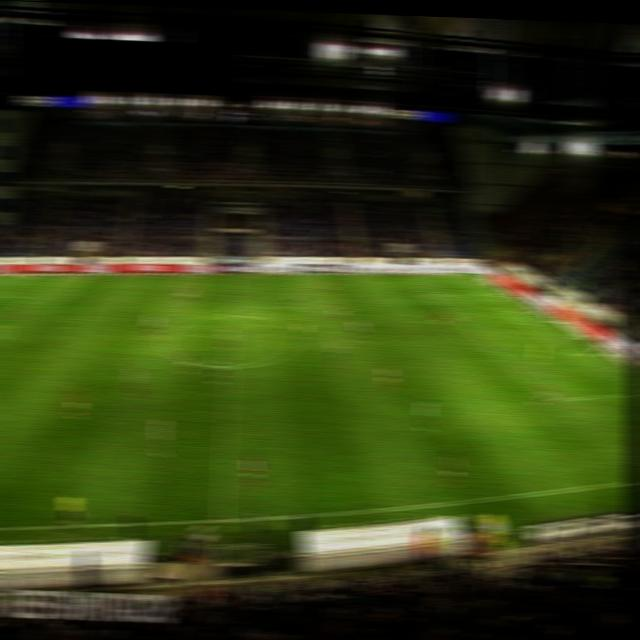bigarea_bottom_inner: (539, 393, 557, 406)
bigarea_top_inner: (23, 291, 41, 303), (418, 290, 435, 299)
bigarea_top_outter: (494, 289, 514, 301)
bottom_arc_area_intersection: (487, 345, 505, 357)
corner: (466, 273, 480, 280)
halfcircle_bottom: (219, 359, 239, 371)
halfcircle_top: (223, 308, 241, 320)
midline_bottom_intersection: (213, 512, 232, 528)
midline_top_intersection: (224, 269, 244, 281)
smallarea_bottom_inner: (561, 348, 580, 361)
smallarea_bottom_outter: (593, 348, 612, 360)
smallarea_top_inner: (498, 305, 516, 316)
smallarea_top_outter: (524, 306, 542, 317)
top_arc_area_intersection: (444, 311, 464, 322), (0, 315, 8, 327)
